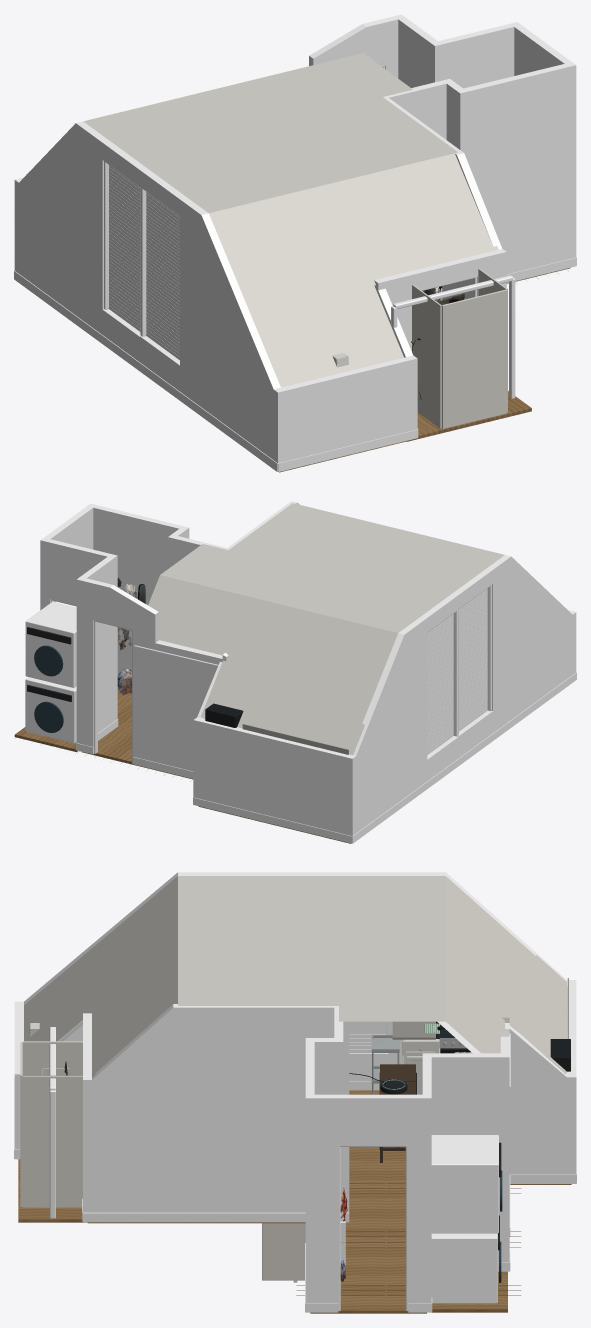
Rendered from model-a17abd8369af.glb.
The picture shows the model from 3 angles, top to bottom: view 1: azimuth 30°, elevation 25°; view 2: azimuth 150°, elevation 25°; view 3: azimuth 270°, elevation 25°; orthographic projection. The views are drawn at different scales.
Parts seen in each view (by area): view 1: architecture_sloped_roof_reference_fit, architecture_region_Wall_8, architecture_region_Wall_12, architecture_region_Wall_2, source_closet_observed_backwall, architecture_region_Wall_5, source_closet_side_support_-0.687, architecture_region_Wall_10, architecture_region_Wall_1, architecture_region_Wall_11, architecture_skirt_region_Wall_8, architecture_region_Wall_13 (+11 smaller); view 2: architecture_sloped_roof_reference_fit, architecture_region_Wall_8, architecture_region_Wall_11, architecture_region_Wall_4, architecture_region_Wall_12, custom_9_body, architecture_region_Wall_13, architecture_region_Wall_5, custom_8_body, architecture_skirt_region_Wall_8, architecture_region_Wall_1, architecture_floor_hallway (+12 smaller); view 3: architecture_sloped_roof_reference_fit, architecture_region_Wall_6, architecture_region_Wall_1, architecture_region_Wall_9, architecture_region_Wall_13, source_closet_side_support_0.211, custom_9_body, architecture_floor_studio, architecture_floor_hallway, custom_8_body, architecture_region_Wall_8, architecture_skirt_region_Wall_6 (+15 smaller).
Boxes of the visible parts, x1,y1,x2,y2 form: architecture_sloped_roof_reference_fit: (83, 53, 498, 387); architecture_region_Wall_8: (19, 121, 285, 463); architecture_region_Wall_12: (460, 64, 573, 274); architecture_region_Wall_2: (273, 355, 417, 462); source_closet_observed_backwall: (442, 289, 507, 428); architecture_region_Wall_5: (431, 22, 518, 88); source_closet_side_support_-0.687: (412, 284, 441, 428); architecture_region_Wall_10: (374, 249, 506, 351); architecture_region_Wall_1: (510, 22, 576, 258); architecture_region_Wall_11: (309, 14, 405, 78); architecture_skirt_region_Wall_8: (14, 270, 277, 471); architecture_region_Wall_13: (395, 14, 437, 87); architecture_sloped_roof_reference_fit: (148, 503, 504, 755); architecture_region_Wall_8: (353, 555, 572, 833); architecture_region_Wall_11: (76, 577, 228, 771); architecture_region_Wall_4: (193, 717, 355, 835); architecture_region_Wall_12: (87, 503, 188, 677); custom_9_body: (25, 601, 76, 687); architecture_region_Wall_13: (77, 554, 117, 732); architecture_region_Wall_5: (42, 537, 110, 605); custom_8_body: (25, 677, 76, 743); architecture_skirt_region_Wall_8: (352, 672, 576, 843); architecture_region_Wall_1: (40, 504, 96, 610); architecture_floor_hallway: (82, 686, 136, 765); architecture_sloped_roof_reference_fit: (24, 876, 566, 1077); architecture_region_Wall_6: (92, 1004, 349, 1212); architecture_region_Wall_1: (305, 1094, 431, 1303); architecture_region_Wall_9: (509, 1025, 576, 1174); architecture_region_Wall_13: (422, 1053, 509, 1262); source_closet_side_support_0.211: (22, 1075, 82, 1207); custom_9_body: (431, 1135, 498, 1233); architecture_floor_studio: (87, 1090, 405, 1235); architecture_floor_hallway: (310, 1235, 426, 1313); custom_8_body: (431, 1233, 497, 1303); architecture_region_Wall_8: (24, 872, 566, 1080); architecture_skirt_region_Wall_6: (83, 1212, 349, 1222).
Size of the model in its own units: 5.92 by 3.6 by 6.21.
92 materials, 19 textured.
